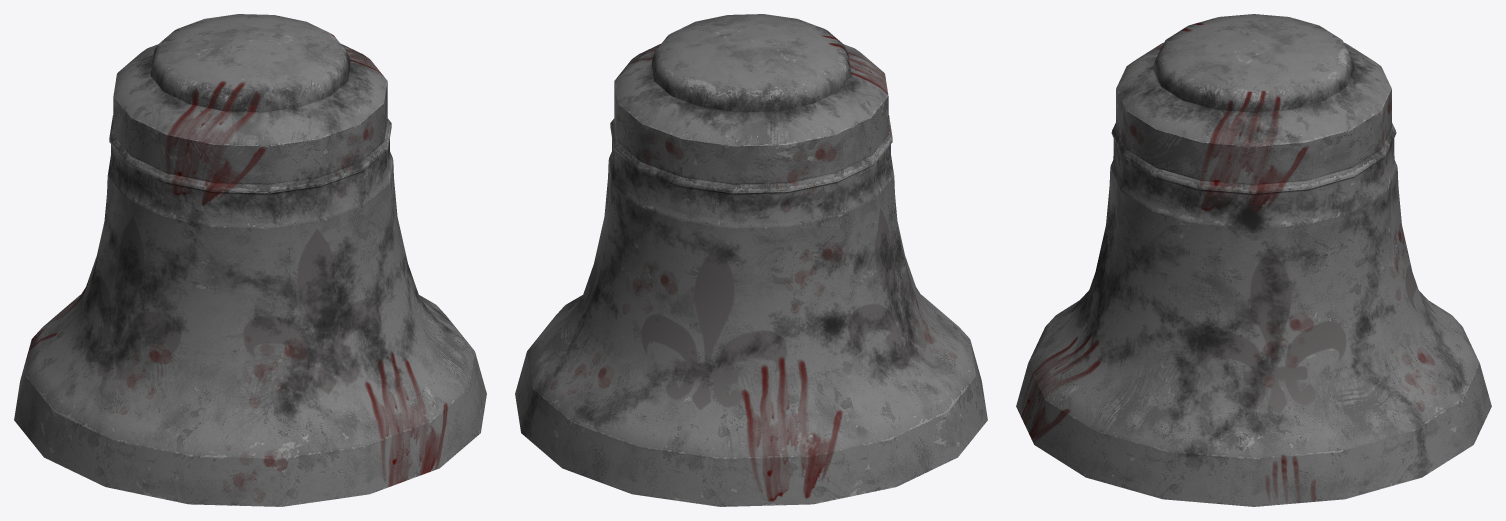
Rendered from Bell.fbx.
3 renders of one model, left to right at view 1: azimuth 30°, elevation 25°; view 2: azimuth 150°, elevation 25°; view 3: azimuth 270°, elevation 25°, orthographic.
Visible parts, largest first — view 1: Bell; view 2: Bell; view 3: Bell.
Boxes of the visible parts, x1,y1,x2,y2 form: Bell: [14, 14, 486, 506]; Bell: [515, 14, 987, 506]; Bell: [1016, 14, 1491, 506].
Size of the model in its own units: 42.08 by 42.08 by 35.73.
